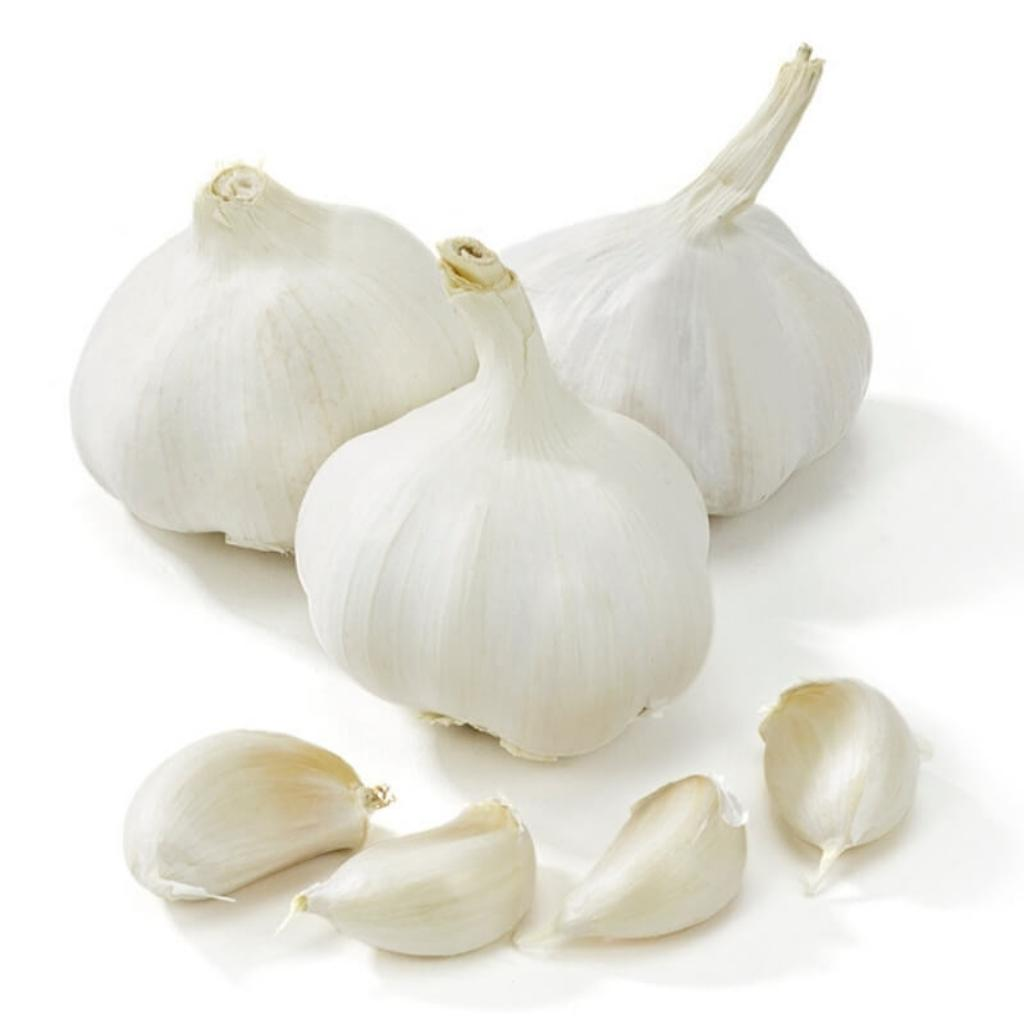garlic: (294, 237, 709, 756), (502, 45, 869, 512), (69, 164, 474, 549), (123, 728, 389, 897), (291, 799, 532, 954), (527, 773, 744, 940), (758, 677, 916, 890)
